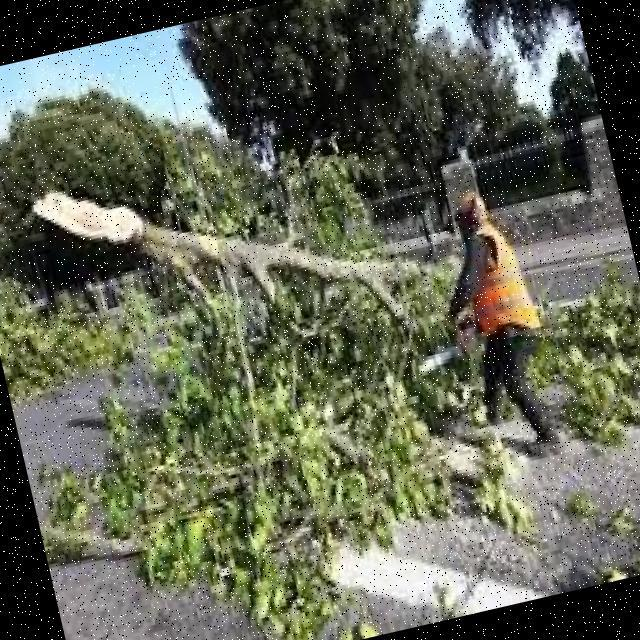fallen_object: (27, 44, 640, 497)
